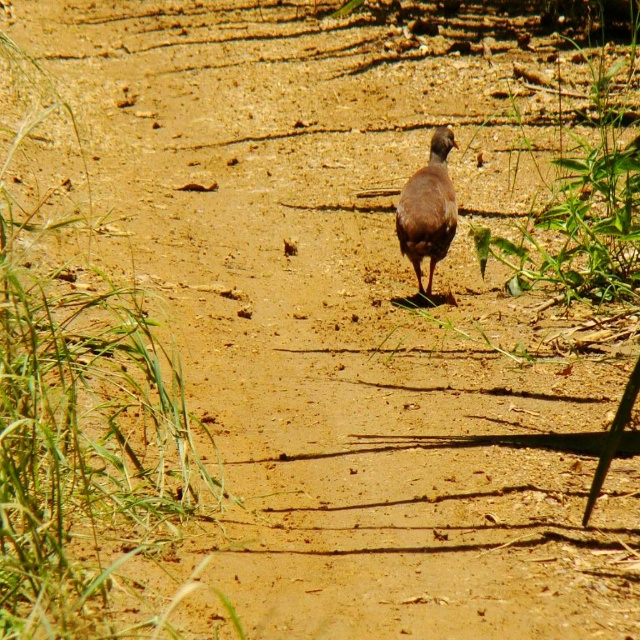Duck: (383, 113, 469, 287)
